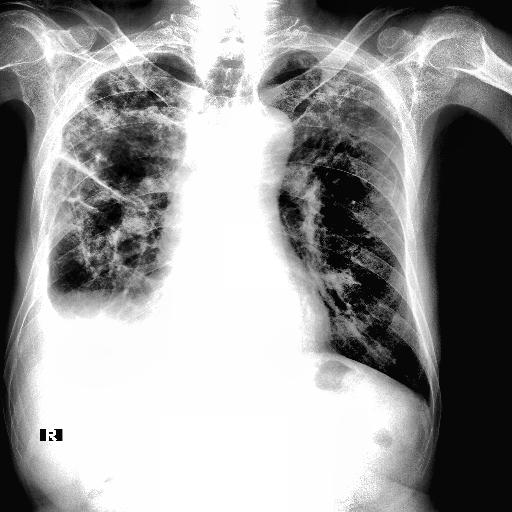10- Pleural effusion: (26, 234, 152, 408), (2, 279, 148, 357), (1, 269, 111, 354), (53, 140, 129, 205)
11- Pleural thickening: (40, 40, 175, 174), (62, 33, 194, 117)
13- Pulmonary fibrosis: (53, 60, 197, 286), (264, 48, 400, 202), (55, 154, 179, 309), (48, 142, 150, 298), (65, 54, 198, 160), (64, 71, 184, 166), (272, 60, 392, 148)
6- Infiltration: (53, 60, 197, 286), (264, 48, 400, 202), (65, 54, 198, 160), (64, 71, 184, 166), (272, 60, 392, 148), (292, 66, 385, 152)
7- Lung Opacity: (56, 290, 172, 350), (72, 280, 168, 343), (54, 290, 160, 340)
